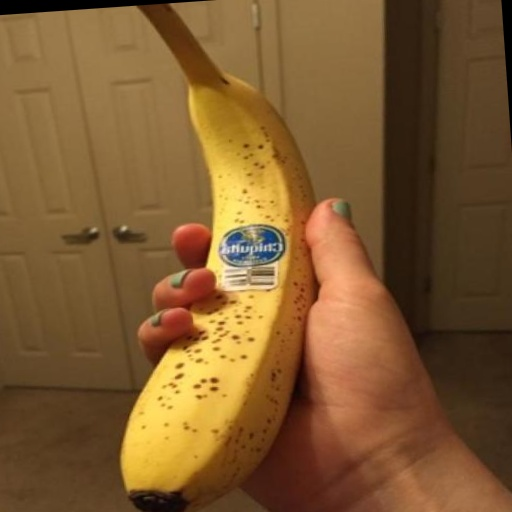fruit: (121, 4, 315, 512)
